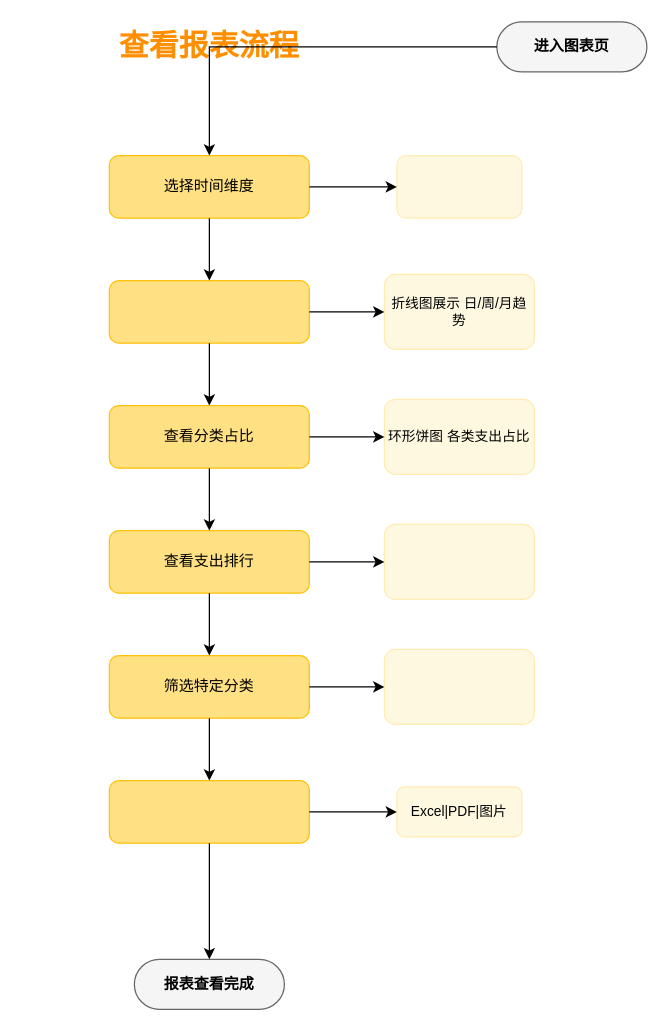
This 669x1031 diagram has some shape labels left out. Here are the shapes that lost their labels. From the top down, the box of each, then its label:
(396, 154, 522, 218): 本周|本月|本年
(108, 279, 309, 343): 查看支出趋势
(383, 523, 534, 599): 条形图排行 Top分类展示
(383, 648, 534, 724): 全部|餐饮|交通 购物|娱乐...
(108, 779, 309, 843): 导出报表（可选）
